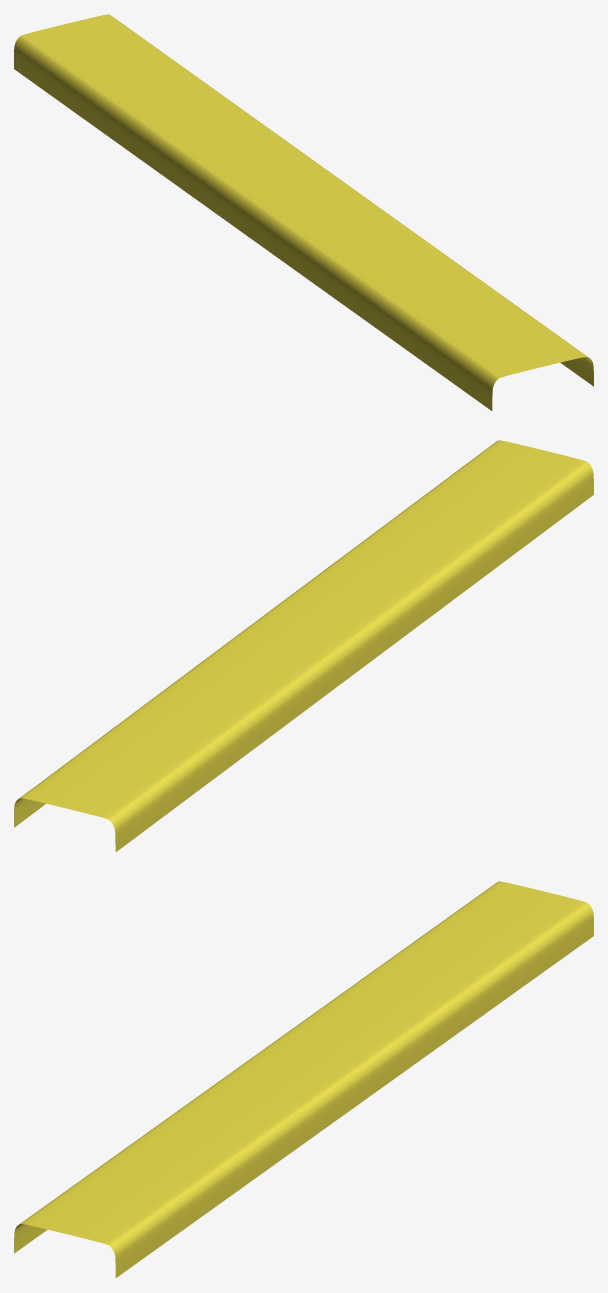
Rendered from TuboRectoAmarillo.fbx.
3 renders of one model, top to bottom at view 1: azimuth 30°, elevation 25°; view 2: azimuth 150°, elevation 25°; view 3: azimuth 330°, elevation 25°, orthographic.
Visible parts, largest first — view 1: TuboRectoAmarilla; view 2: TuboRectoAmarilla; view 3: TuboRectoAmarilla.
Boxes of the visible parts, x1,y1,x2,y2 form: TuboRectoAmarilla: (14,14,593,410); TuboRectoAmarilla: (14,440,593,851); TuboRectoAmarilla: (14,881,593,1277).
Bounding box in the file's own units: 0.4432 × 0.167 × 3.62.
